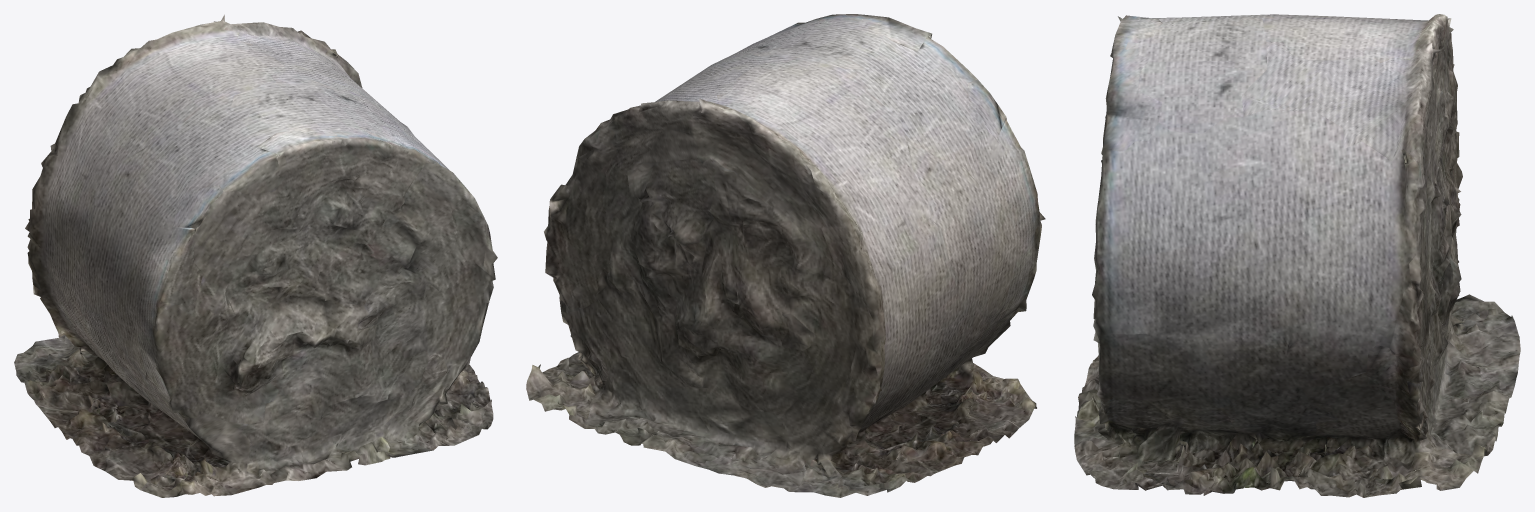
Rendered from straw-bale.glb.
3 views of the same model, side by side, from view 1: azimuth 30°, elevation 25°; view 2: azimuth 150°, elevation 25°; view 3: azimuth 270°, elevation 25° (orthographic). The views are drawn at different scales.
Parts seen in each view (by area): view 1: balik_slamy; view 2: balik_slamy; view 3: balik_slamy.
Part boxes in pixels (left/top/right/bottom): balik_slamy: left=14, top=14, right=497, bottom=497; balik_slamy: left=526, top=14, right=1045, bottom=497; balik_slamy: left=1074, top=14, right=1520, bottom=497.
Bounding box in the file's own units: 1.96 × 1.67 × 1.76.
Materials: 1 (1 with a texture image).
